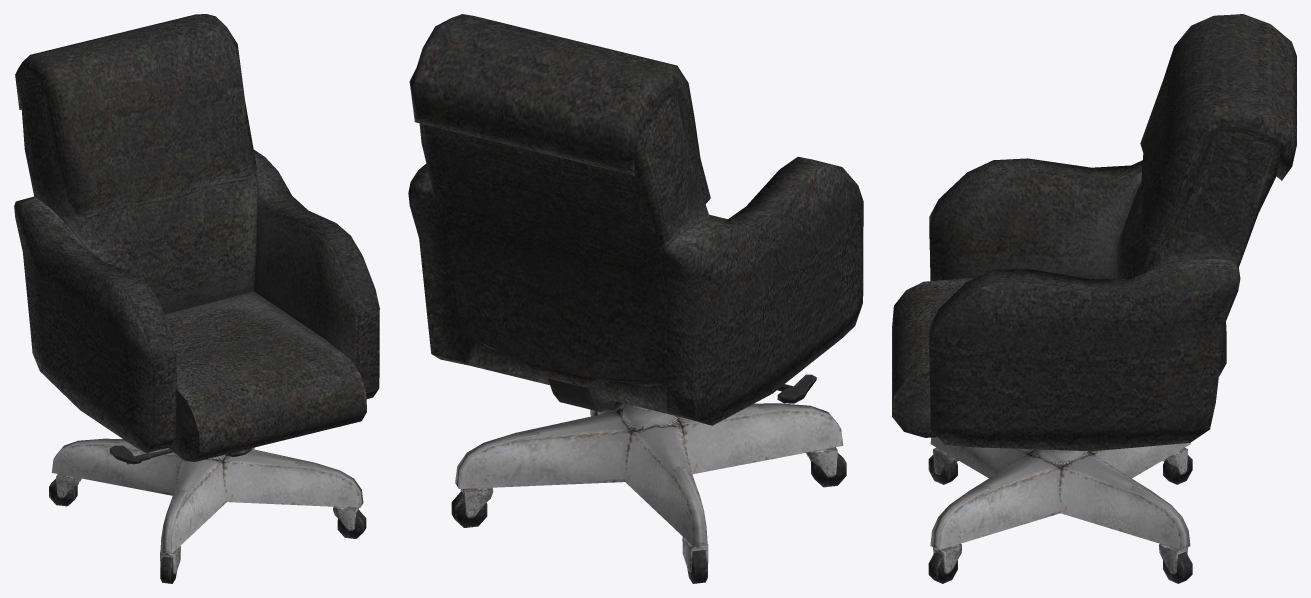
File: 014_OfficeChair.fbx
The picture shows the model from 3 angles, left to right: view 1: azimuth 30°, elevation 25°; view 2: azimuth 150°, elevation 25°; view 3: azimuth 270°, elevation 25°; orthographic projection. The views are drawn at different scales.
Parts seen in each view (by area): view 1: LOD_1_Group_4_Sub_1__sm30_014_OfficeChair03A_A_Mat, LOD_1_Group_1_Sub_1__sm30_014_OfficeChair03A_A_Mat, LOD_1_Group_0_Sub_1__sm30_014_OfficeChair03A_A_Mat, LOD_1_Group_2_Sub_1__sm30_014_OfficeChair03A_A_Mat; view 2: LOD_1_Group_4_Sub_1__sm30_014_OfficeChair03A_A_Mat, LOD_1_Group_1_Sub_1__sm30_014_OfficeChair03A_A_Mat, LOD_1_Group_0_Sub_1__sm30_014_OfficeChair03A_A_Mat, LOD_1_Group_2_Sub_1__sm30_014_OfficeChair03A_A_Mat; view 3: LOD_1_Group_4_Sub_1__sm30_014_OfficeChair03A_A_Mat, LOD_1_Group_1_Sub_1__sm30_014_OfficeChair03A_A_Mat, LOD_1_Group_0_Sub_1__sm30_014_OfficeChair03A_A_Mat.
Boxes of the visible parts, box(x1,y1,x2,y2) form: LOD_1_Group_4_Sub_1__sm30_014_OfficeChair03A_A_Mat: box(14, 14, 379, 461); LOD_1_Group_1_Sub_1__sm30_014_OfficeChair03A_A_Mat: box(51, 438, 363, 553); LOD_1_Group_0_Sub_1__sm30_014_OfficeChair03A_A_Mat: box(49, 447, 366, 583); LOD_1_Group_2_Sub_1__sm30_014_OfficeChair03A_A_Mat: box(109, 445, 251, 464); LOD_1_Group_4_Sub_1__sm30_014_OfficeChair03A_A_Mat: box(408, 14, 863, 425); LOD_1_Group_1_Sub_1__sm30_014_OfficeChair03A_A_Mat: box(455, 403, 843, 546); LOD_1_Group_0_Sub_1__sm30_014_OfficeChair03A_A_Mat: box(451, 409, 846, 583); LOD_1_Group_2_Sub_1__sm30_014_OfficeChair03A_A_Mat: box(548, 374, 816, 411); LOD_1_Group_4_Sub_1__sm30_014_OfficeChair03A_A_Mat: box(892, 14, 1296, 451); LOD_1_Group_1_Sub_1__sm30_014_OfficeChair03A_A_Mat: box(930, 437, 1190, 549); LOD_1_Group_0_Sub_1__sm30_014_OfficeChair03A_A_Mat: box(928, 447, 1192, 583).
Bounding box in the file's own units: 0.868 × 1.44 × 1.12.
